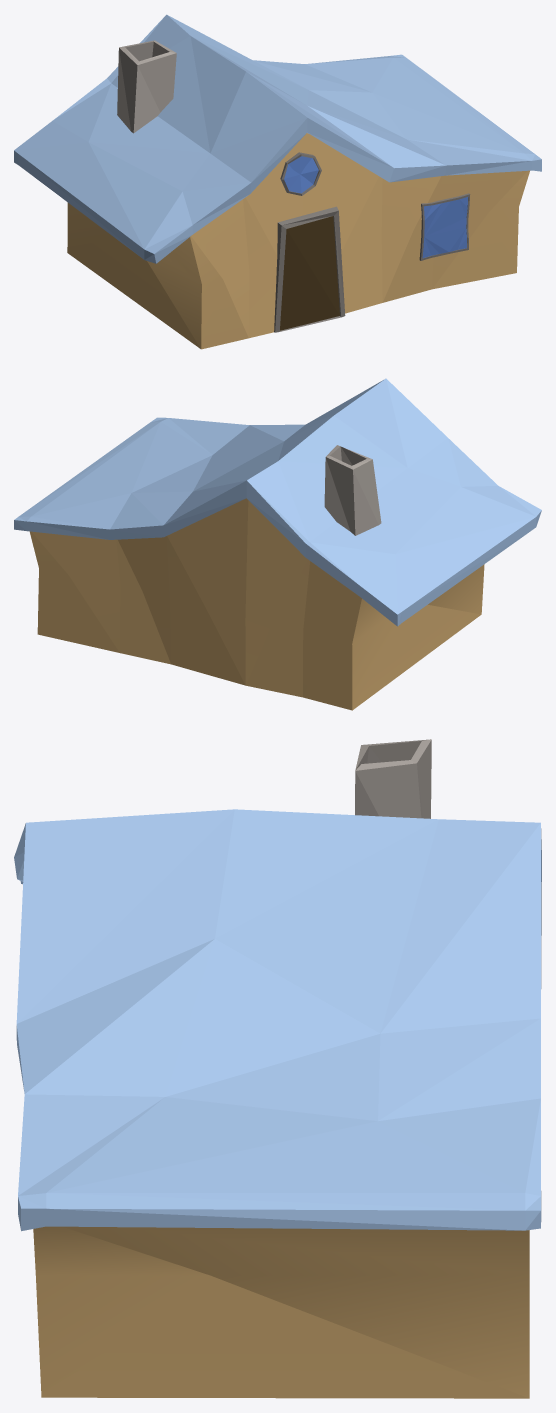
Rendered from Hut_hut.fbx.
3 views of the same model, one above another, from view 1: azimuth 30°, elevation 25°; view 2: azimuth 150°, elevation 25°; view 3: azimuth 270°, elevation 25° (orthographic). The views are drawn at different scales.
Visible parts, largest first — view 1: pCube5; view 2: pCube5; view 3: pCube5.
Part boxes in pixels (x1,y1,x2,y2): pCube5: (14, 14, 541, 349); pCube5: (14, 378, 541, 710); pCube5: (14, 739, 541, 1398).
Bounding box in the file's own units: 18.65 × 9.97 × 11.8.
Materials: 1 (1 with a texture image).
